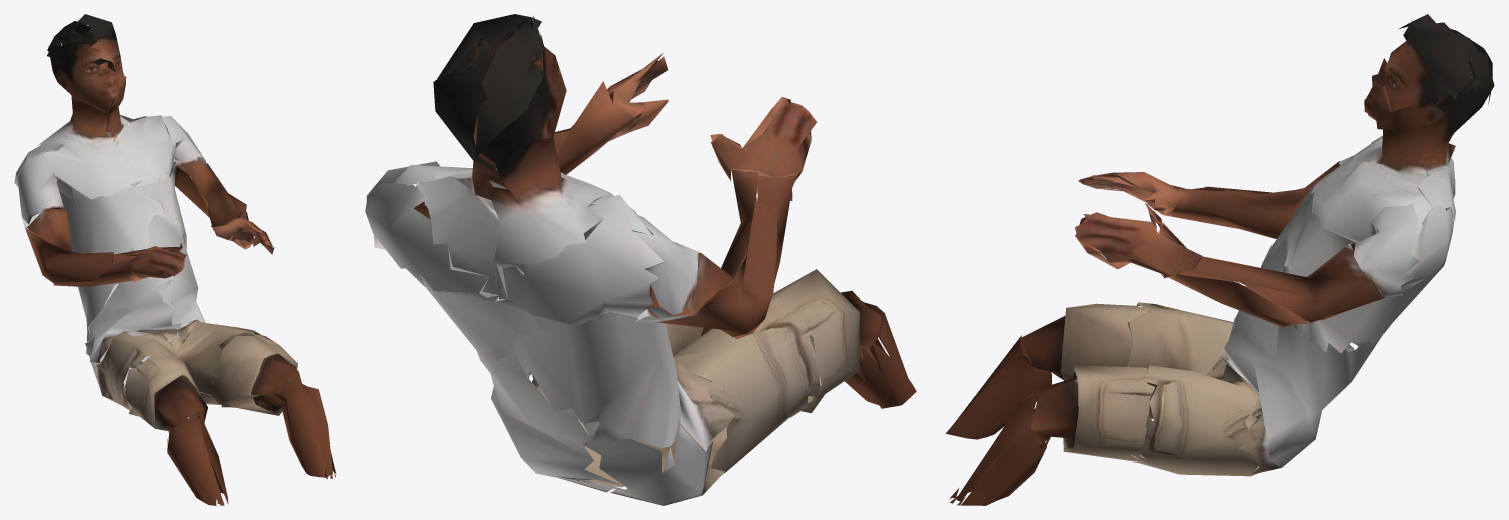
File: jeune_homme.glb
The picture shows the model from 3 angles, left to right: view 1: azimuth 30°, elevation 25°; view 2: azimuth 150°, elevation 25°; view 3: azimuth 270°, elevation 25°; orthographic projection. The views are drawn at different scales.
Parts seen in each view (by area): view 1: driver; view 2: driver; view 3: driver.
Boxes of the visible parts, left/top/right/bottom form: driver: left=14, top=14, right=336, bottom=505; driver: left=365, top=14, right=916, bottom=505; driver: left=946, top=14, right=1494, bottom=505.
Size of the model in its own units: 0.6013 by 0.98 by 1.1.
1 material, 1 textured.
